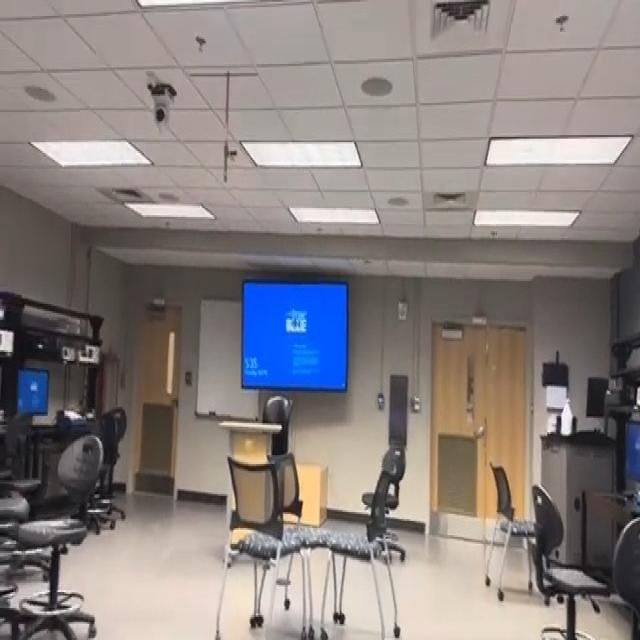drone: (282, 315, 308, 336)
